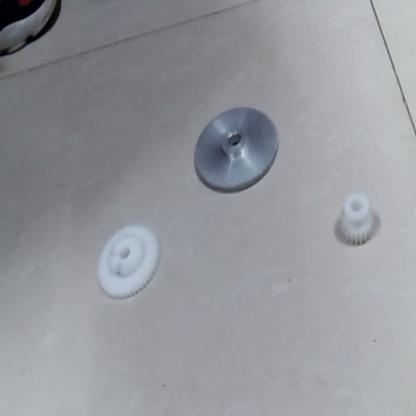FOD: (185, 104, 287, 196), (92, 219, 166, 307), (330, 192, 378, 250)
